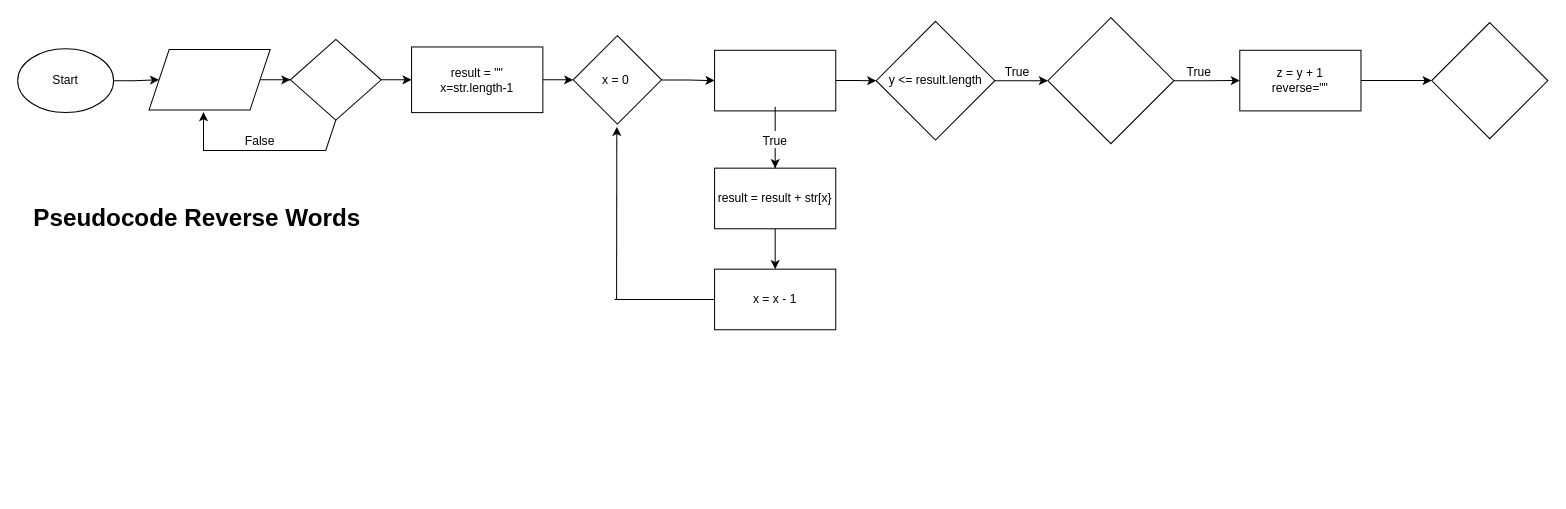
Image size: 1566x509. Some labels were removed from this diagram. The shapes that lost their labels are listed below. From the top down, each one's box as (x1, y1, x2, y2) in pixels, then its label:
(148, 48, 270, 110): Input str
(289, 38, 381, 120): If str = string
(714, 49, 836, 111): y = 0
(1047, 17, 1174, 144): result[y] == " "
